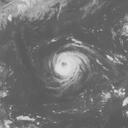cyclone: (48, 40, 115, 100)
